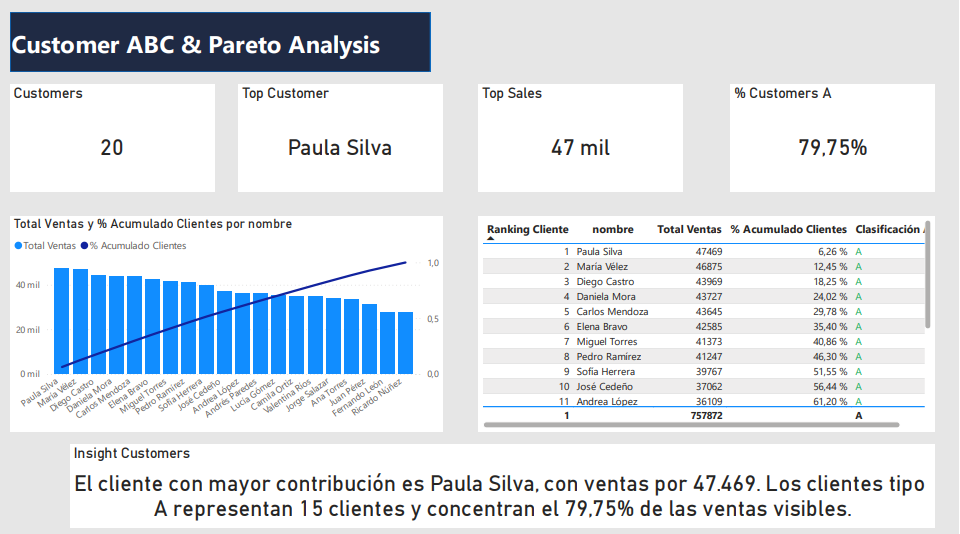

The dashboard page shown, as its layout file describes it:
{"tool":"powerbi","page":{"name":"Análisis Clientes","canvas":[1280,720],"ordinal":2},"visuals":[{"type":"tableEx","fields":{"Values":["clientes.nombre","Medidas.Total Ventas","Medidas.% Acumulado Clientes","Medidas.Clasificación ABC"]},"box":[10,122,549,503],"z":0},{"type":"lineStackedColumnComboChart","fields":{"Y":["Medidas.Total Ventas"],"Y2":["Medidas.% Acumulado Clientes"],"Category":["clientes.nombre"]},"box":[583.2,122.4,685.4,502.6],"z":1000},{"type":"textbox","box":[471,13,270,62],"z":1001}]}

Visuals, with their boxes in screenshot pixels (x1, y1, x2, y2), scaled from the page's 1280x720 canvas onto the 960x534 screenshot:
tableEx - clientes.nombre x Medidas.Total Ventas: select_region(8, 90, 419, 464)
lineStackedColumnComboChart - Medidas.Total Ventas x Medidas.% Acumulado Clientes: select_region(437, 91, 951, 464)
textbox: select_region(353, 10, 556, 56)
